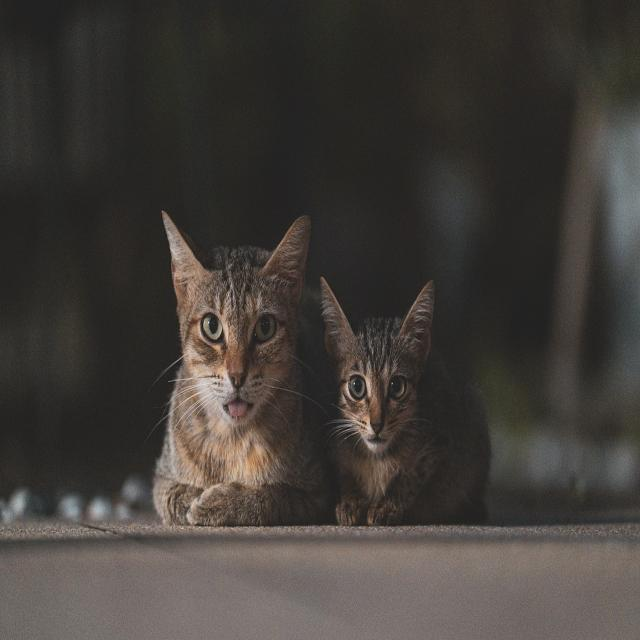cat: (158, 205, 313, 526), (318, 278, 492, 531)
